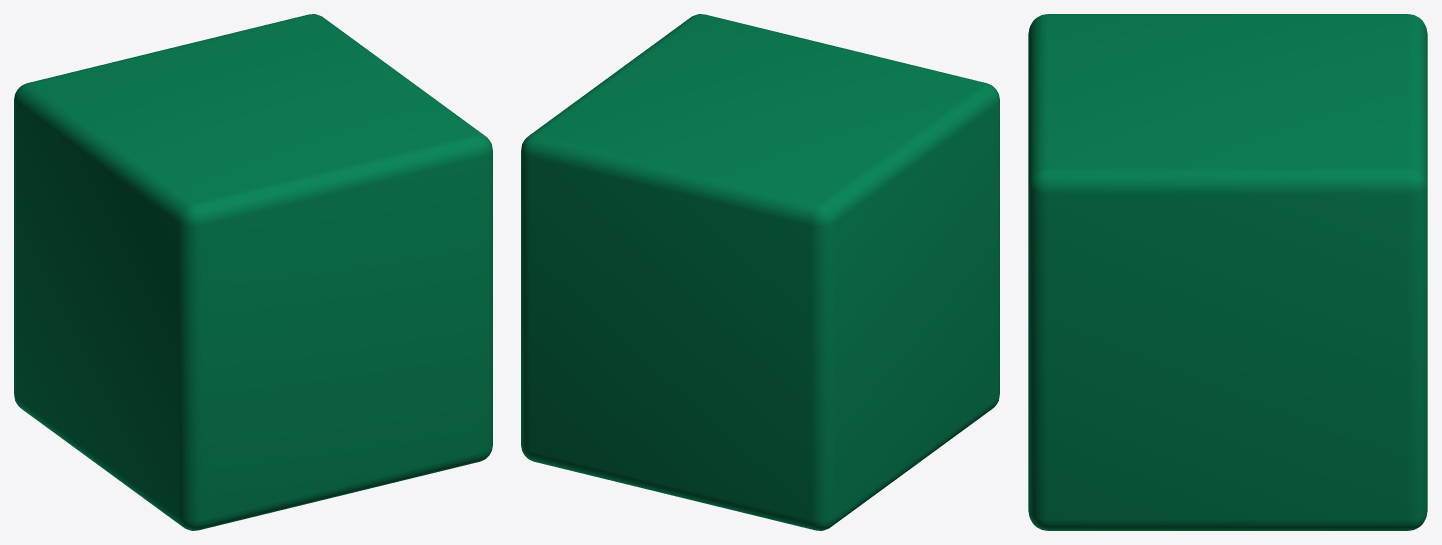
3 views of the same model, side by side, from view 1: azimuth 30°, elevation 25°; view 2: azimuth 150°, elevation 25°; view 3: azimuth 270°, elevation 25° (orthographic). The views are drawn at different scales.
Parts seen in each view (by area): view 1: Cube_Finished_Cube.001; view 2: Cube_Finished_Cube.001; view 3: Cube_Finished_Cube.001.
Part boxes in pixels (left/top/right/bottom): Cube_Finished_Cube.001: left=14, top=14, right=492, bottom=530; Cube_Finished_Cube.001: left=521, top=14, right=999, bottom=530; Cube_Finished_Cube.001: left=1028, top=14, right=1427, bottom=530.
Bounding box in the file's own units: 2 × 2 × 2.
